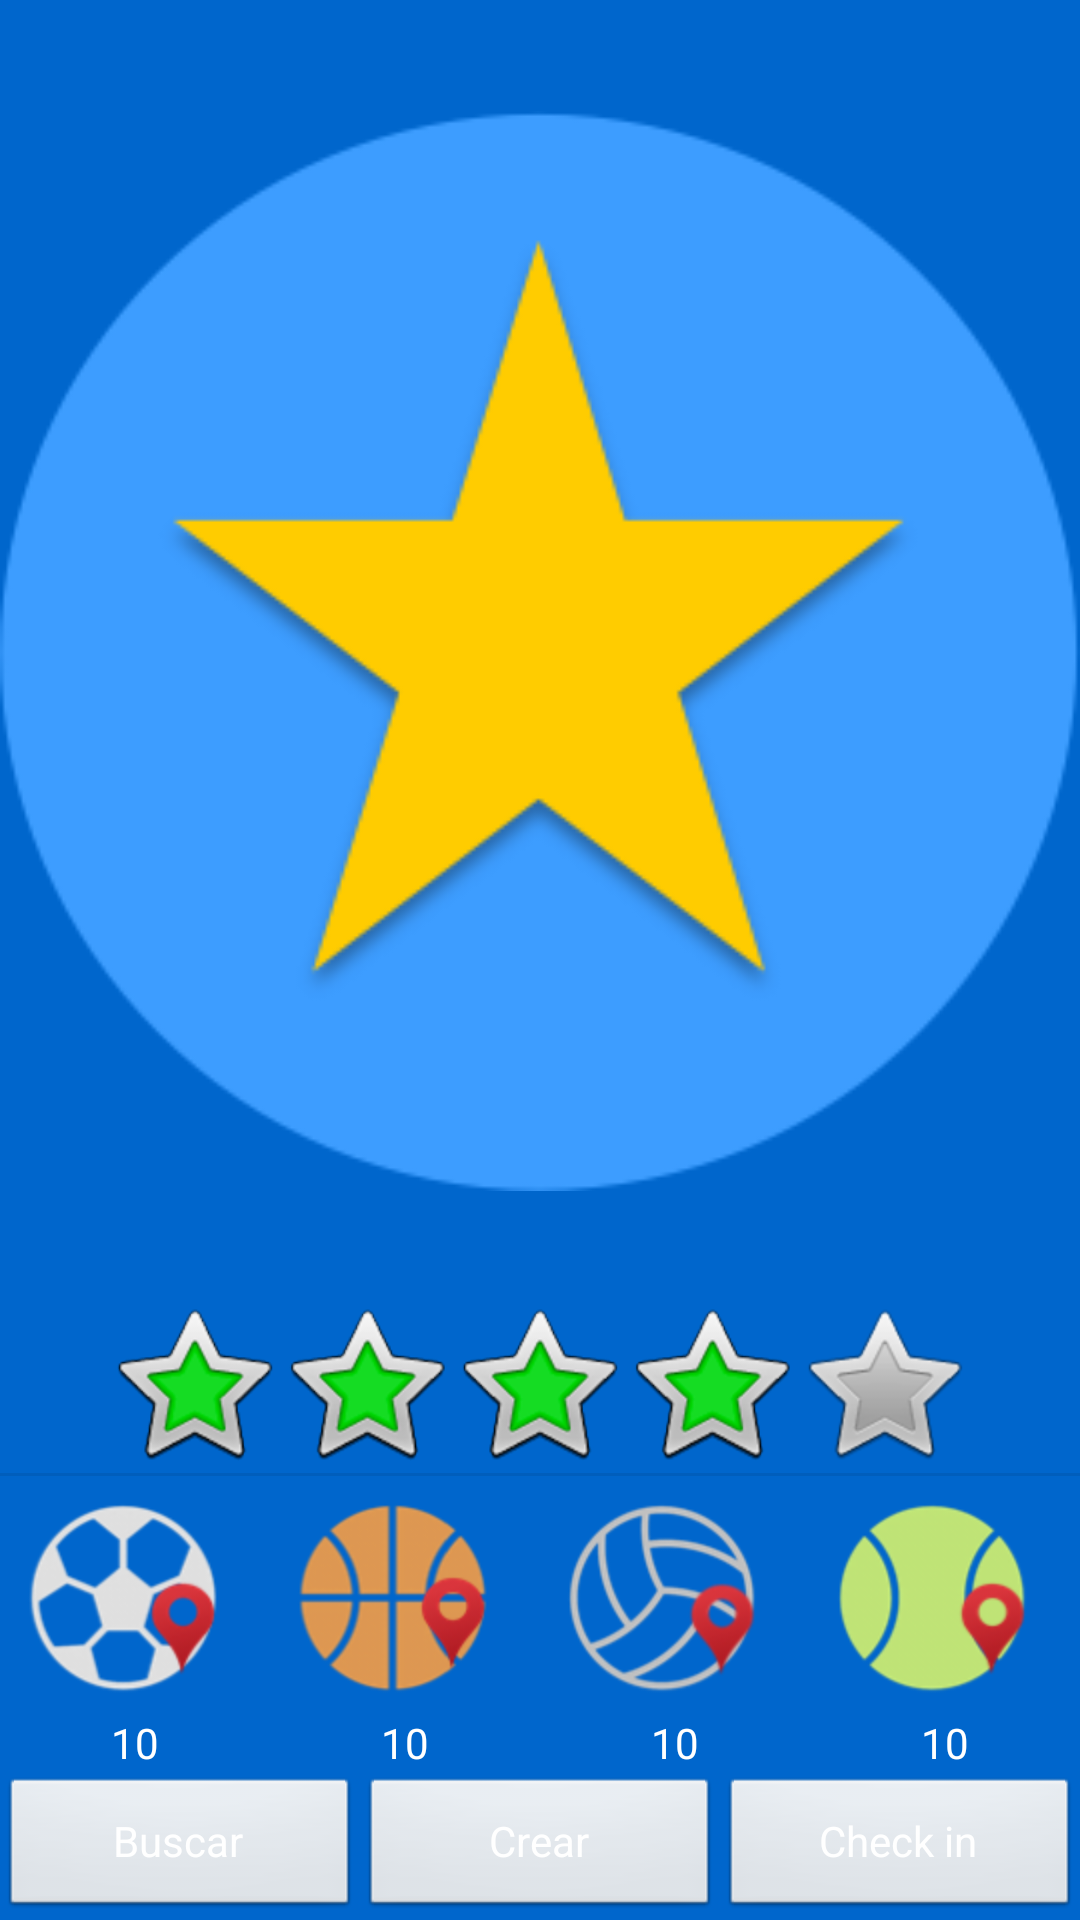

Where to tap for icons on this 1080*1920 app screen, as (x=x, y=y):
ball basket: (x=392, y=1598)
ball soccer: (x=123, y=1598)
ball tennis: (x=932, y=1598)
ball volei: (x=662, y=1598)
